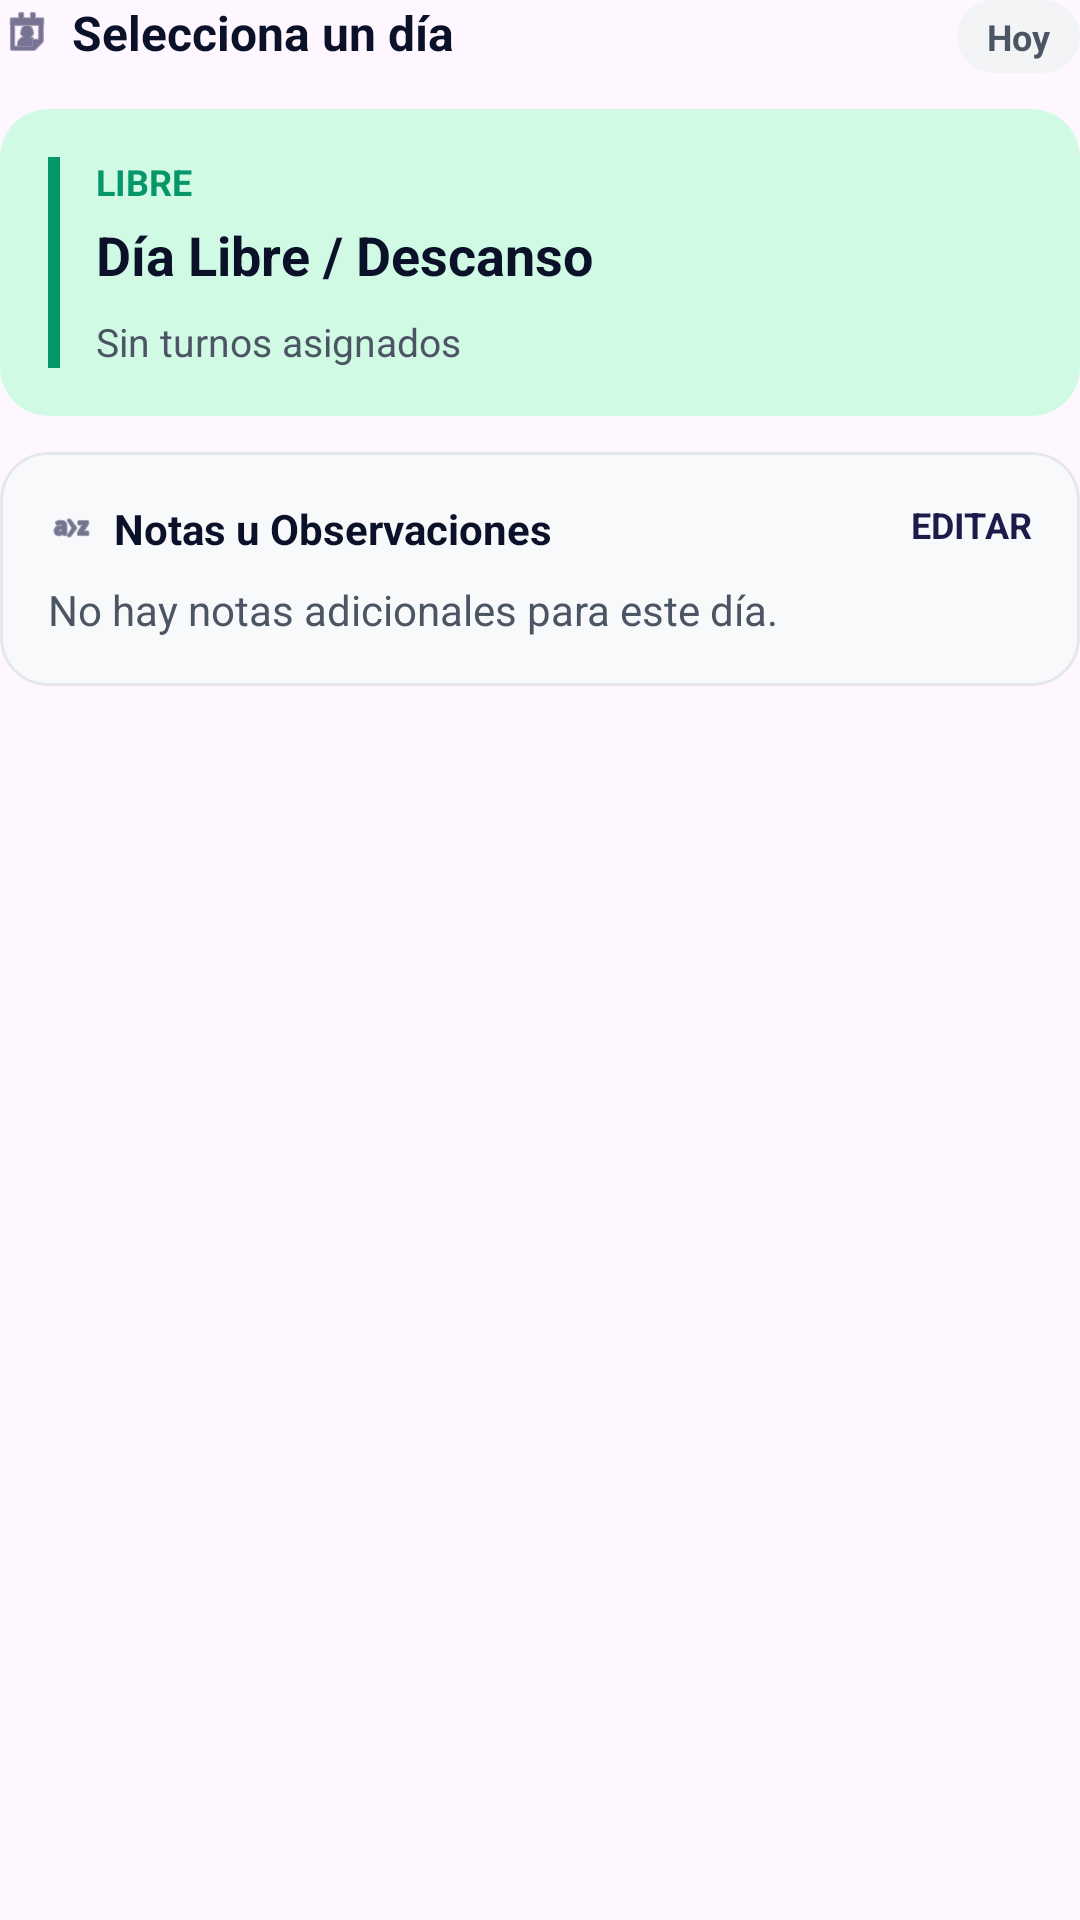

Named icons in this screenshot (1080*1920) and their centers, [x,y]:
calendar: [27,31]
sort alphabetically: [71,528]
